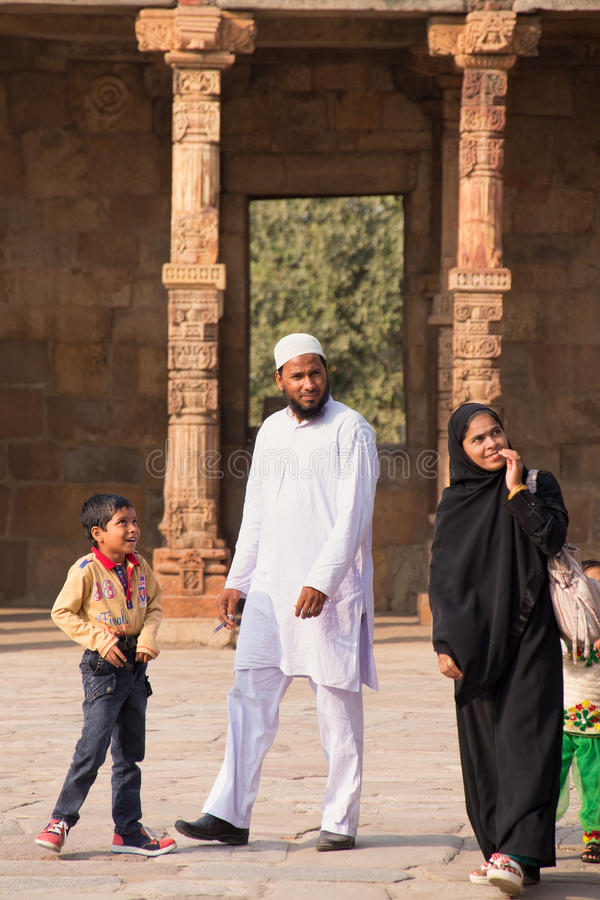Person: (174, 327, 391, 875), (419, 396, 598, 900), (35, 485, 191, 883)
